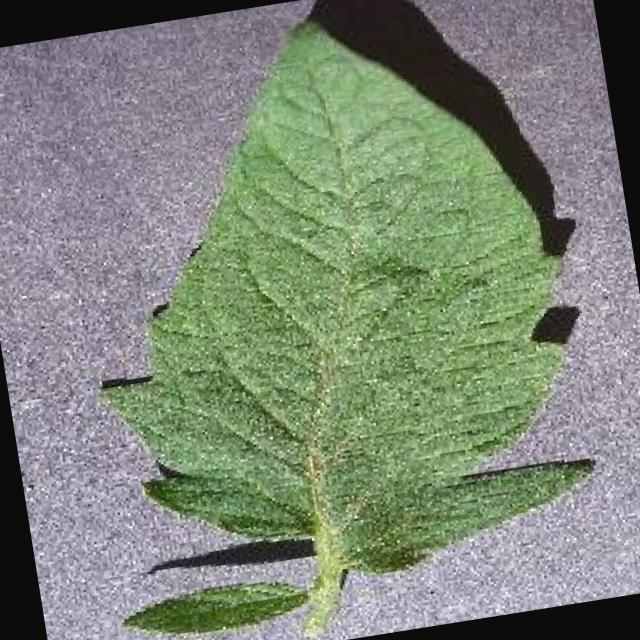healthy: (95, 22, 594, 632)
